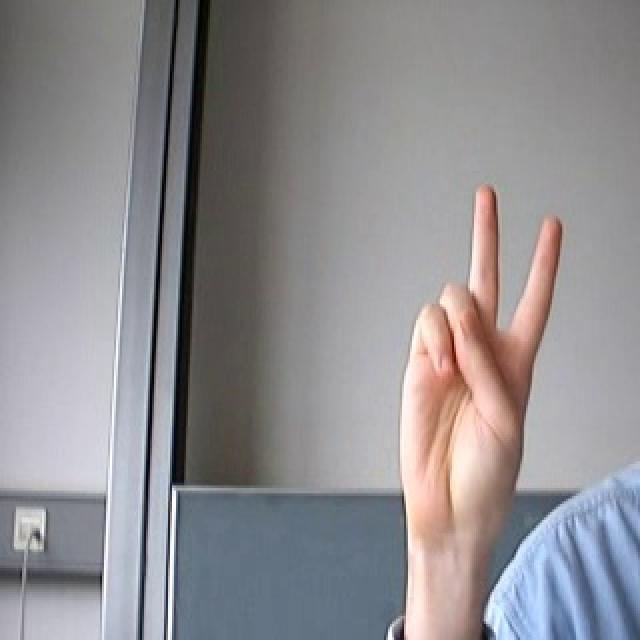V: (352, 167, 589, 580)
